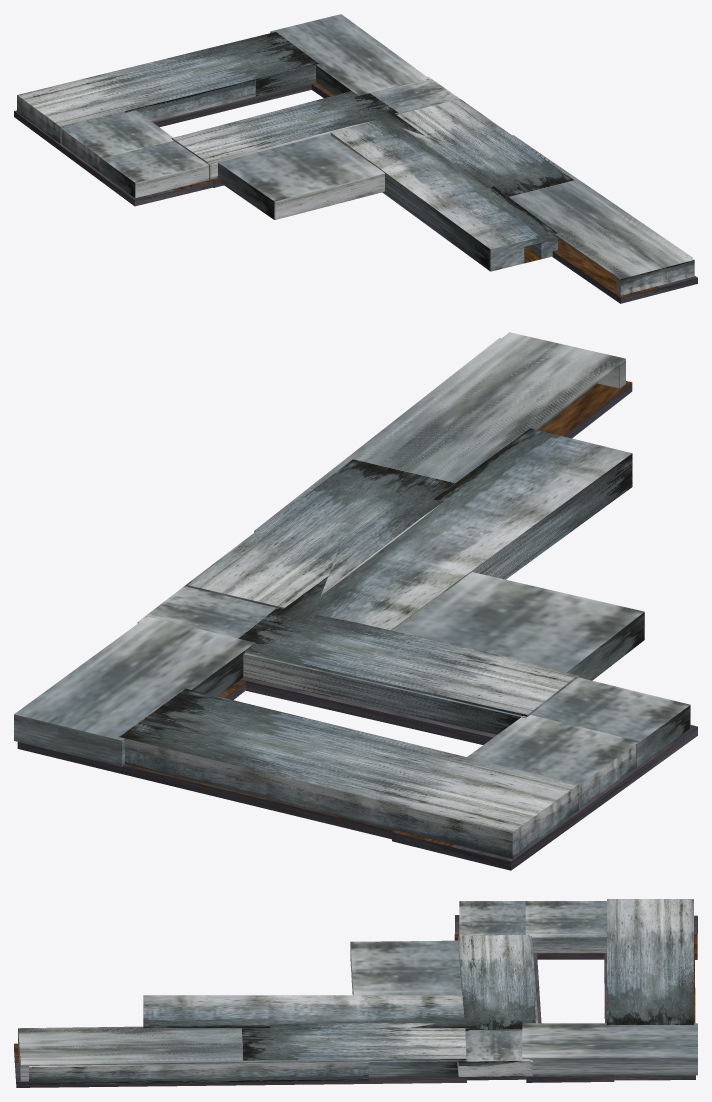
The model's file is tunnels.fbx.
3 views of the same model, one above another, from view 1: azimuth 30°, elevation 25°; view 2: azimuth 150°, elevation 25°; view 3: azimuth 270°, elevation 25° (orthographic). The views are drawn at different scales.
Parts seen in each view (by area): view 1: Cube.006, Cube.003, Cube.005, Cube.002, subway tunnel.001, subway tunnel.002, Cube.007, Cube.010, Cube.011, Cube.004, Cube, Cube.012 (+1 smaller); view 2: Cube.006, Cube.003, subway tunnel.002, Cube.005, subway tunnel.001, Cube.007, Cube.002, Cube.011, Cube.010, Cube.012, Cube, Cube.009 (+2 smaller); view 3: Cube.005, Cube.006, Cube.003, subway tunnel.001, Cube.007, subway tunnel.002, Cube.002, Cube.011, Cube, Cube.004, Cube.010, Cube.012 (+3 smaller).
Boxes of the visible parts, <box> form: Cube.006: <box>17,31,319,143</box>; Cube.003: <box>330,110,557,271</box>; Cube.005: <box>509,134,694,295</box>; Cube.002: <box>217,134,384,219</box>; subway tunnel.001: <box>397,99,574,196</box>; subway tunnel.002: <box>171,91,398,180</box>; Cube.007: <box>270,14,429,95</box>; Cube.010: <box>99,141,208,198</box>; Cube.011: <box>61,110,173,171</box>; Cube.004: <box>552,238,697,303</box>; Cube: <box>371,76,465,113</box>; Cube.012: <box>14,110,213,206</box>; Cube.006: <box>118,688,578,858</box>; Cube.003: <box>276,428,632,631</box>; subway tunnel.002: <box>238,608,578,734</box>; Cube.005: <box>254,332,625,532</box>; subway tunnel.001: <box>187,459,454,608</box>; Cube.007: <box>14,616,255,766</box>; Cube.002: <box>395,572,644,680</box>; Cube.011: <box>467,715,639,808</box>; Cube.010: <box>531,677,690,767</box>; Cube.012: <box>392,725,697,870</box>; Cube: <box>137,581,277,638</box>; Cube.009: <box>17,742,394,839</box>; Cube.005: <box>18,1026,368,1084</box>; Cube.006: <box>607,899,693,1025</box>; Cube.003: <box>143,995,476,1028</box>; subway tunnel.001: <box>241,1023,466,1077</box>; Cube.007: <box>522,1023,697,1075</box>; subway tunnel.002: <box>458,934,538,1031</box>; Cube.002: <box>350,940,461,995</box>; Cube.011: <box>525,901,606,952</box>; Cube: <box>457,1030,532,1076</box>; Cube.004: <box>14,1043,466,1087</box>; Cube.010: <box>459,901,525,936</box>; Cube.012: <box>454,915,697,959</box>.
Size of the model in its own units: 16641 by 1105 by 28727.
